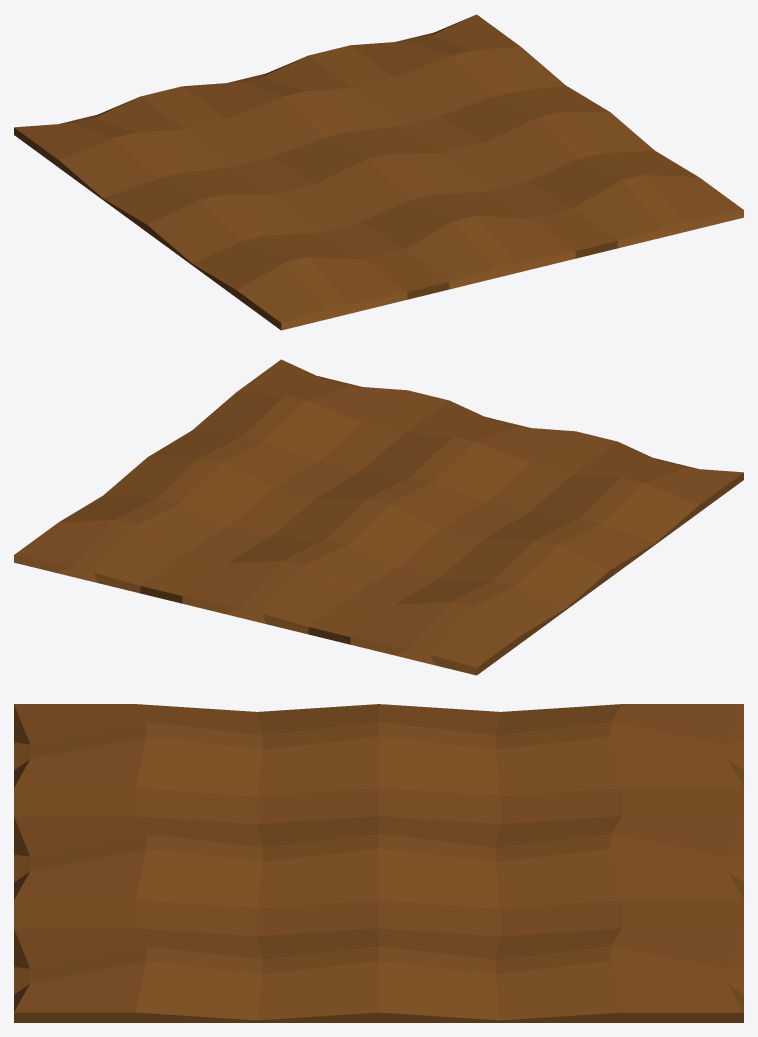
File: farmsoil.fbx
3 views of the same model, one above another, from view 1: azimuth 30°, elevation 25°; view 2: azimuth 150°, elevation 25°; view 3: azimuth 270°, elevation 25° (orthographic). The views are drawn at different scales.
Parts seen in each view (by area): view 1: Cube; view 2: Cube; view 3: Cube.
Boxes of the visible parts, <box> form: Cube: <box>14,14,743,330</box>; Cube: <box>14,359,743,675</box>; Cube: <box>14,704,743,1022</box>.
Size of the model in its own units: 596 by 24.61 by 596.
